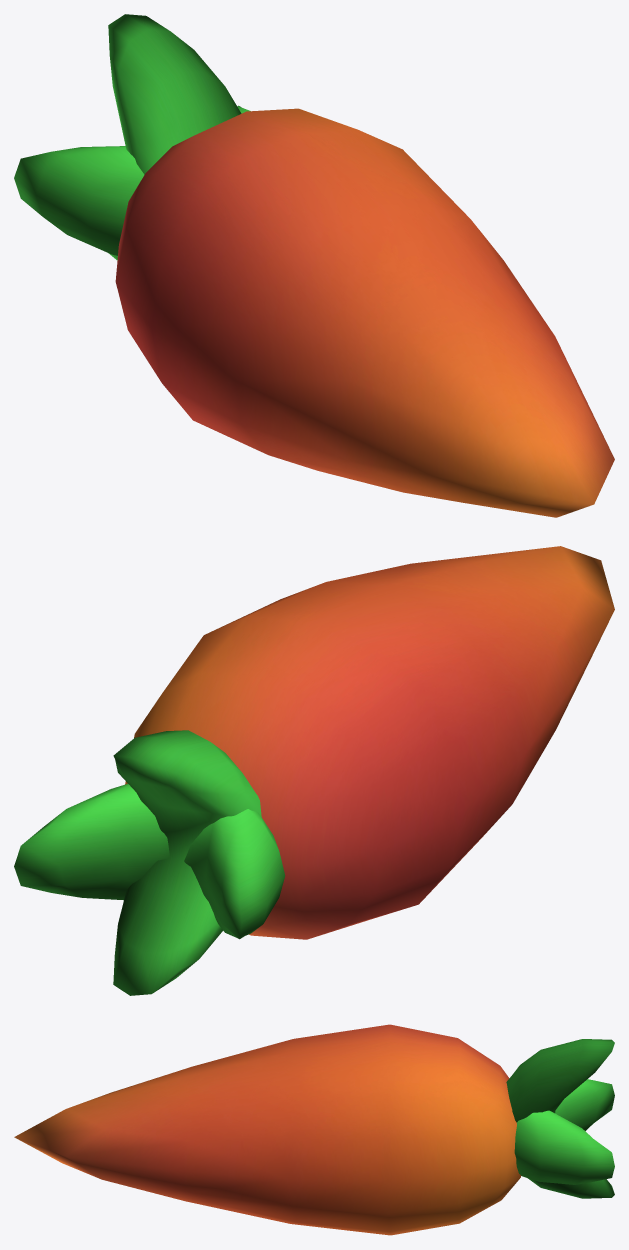
Rendered from PowerUp_Proyectil.fbx.
3 views of the same model, one above another, from view 1: azimuth 30°, elevation 25°; view 2: azimuth 150°, elevation 25°; view 3: azimuth 270°, elevation 25° (orthographic). The views are drawn at different scales.
Parts seen in each view (by area): view 1: Box001, Box003, Box002; view 2: Box001, Box003, Box002; view 3: Box001, Box002, Box003.
Part boxes in pixels (box(x1,y1,x2,y2)): Box001: box(115, 108, 614, 517); Box003: box(108, 14, 241, 260); Box002: box(14, 105, 250, 255); Box001: box(125, 546, 614, 939); Box003: box(113, 730, 261, 995); Box002: box(14, 784, 285, 939); Box001: box(14, 1024, 520, 1235); Box002: box(514, 1079, 614, 1184); Box003: box(506, 1039, 614, 1198).
Size of the model in its own units: 6.27 by 5.85 by 17.22.
1 material, 1 textured.
